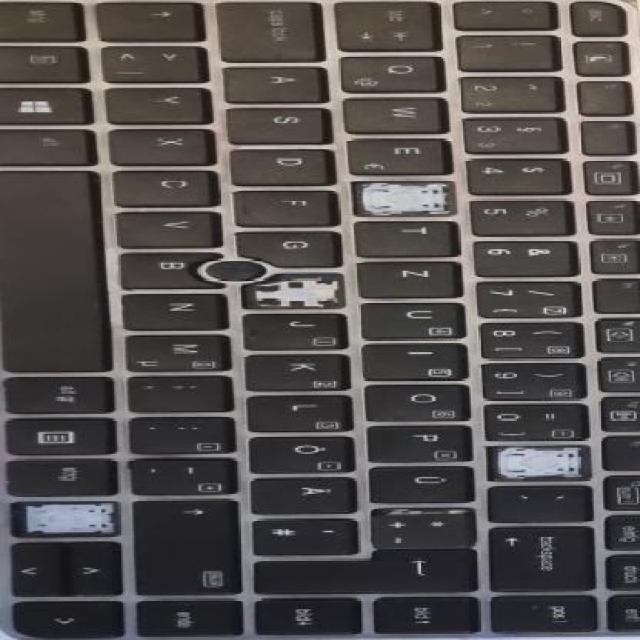Keyboard problems: (242, 274, 345, 308), (12, 502, 117, 534), (355, 182, 455, 214), (489, 446, 589, 478)
